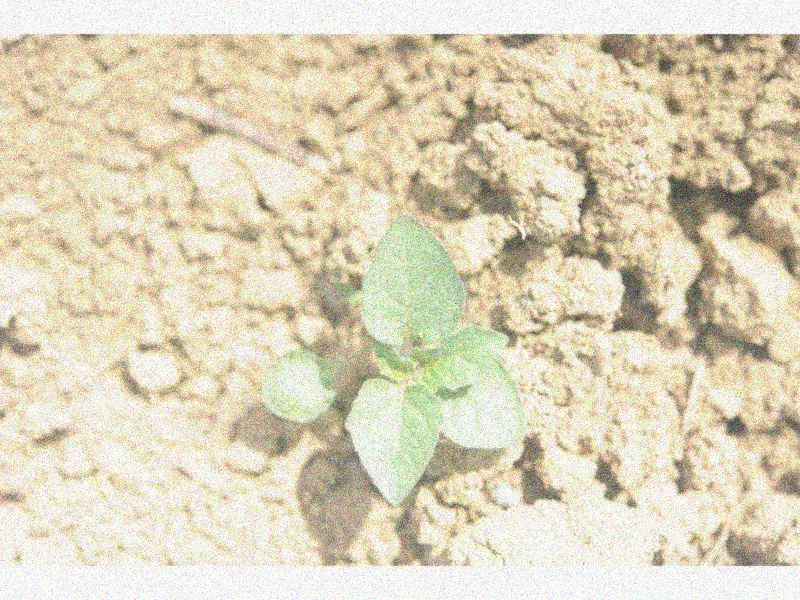nightshade: (261, 213, 521, 505)
